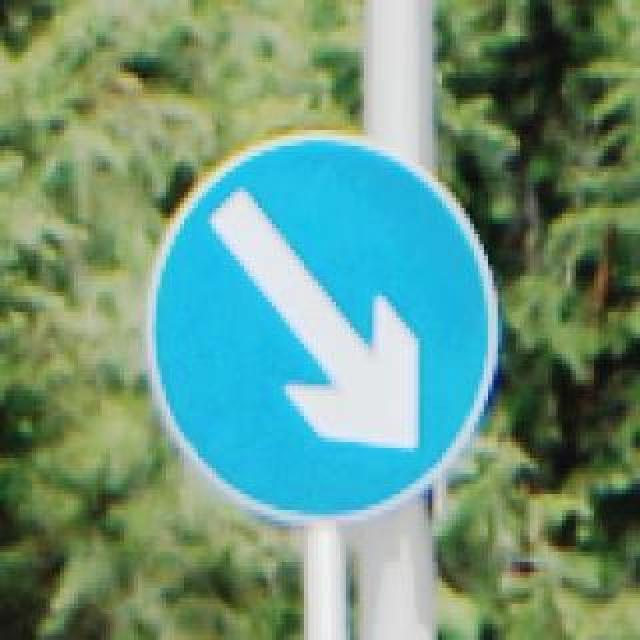keep right: (138, 124, 494, 520)
